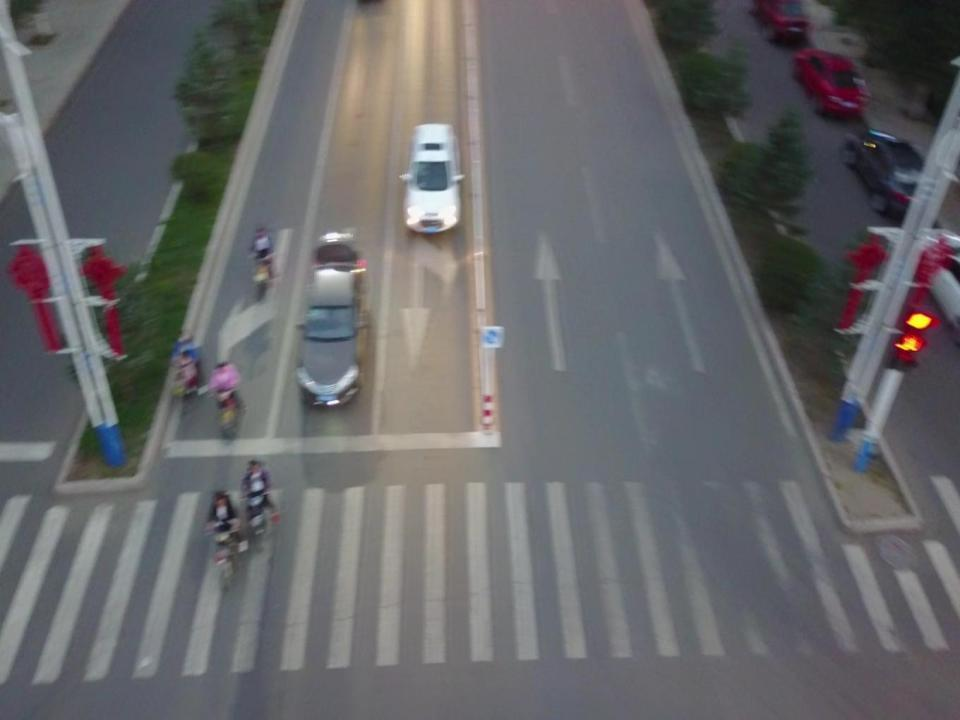car: (296, 232, 368, 404), (794, 48, 871, 117), (748, 0, 808, 42)
van: (845, 132, 938, 219), (399, 124, 464, 232)
